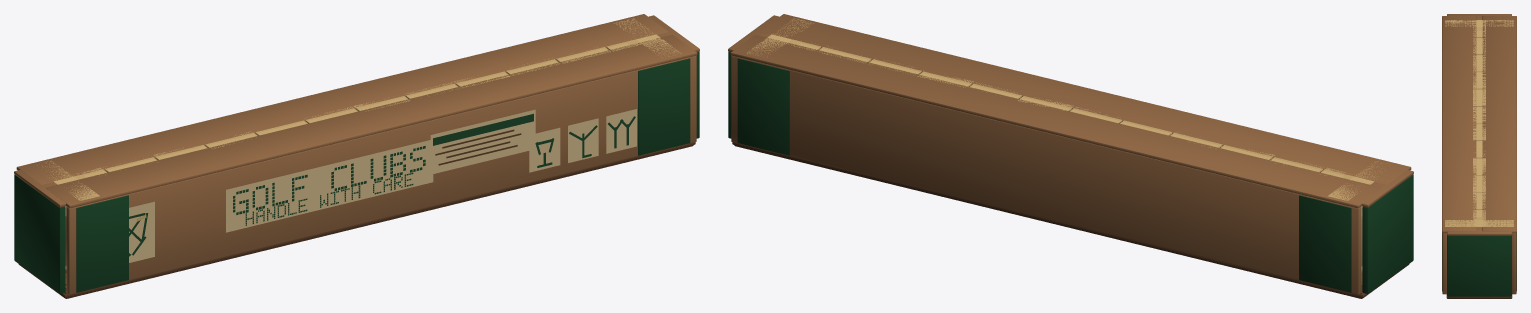
Rendered from delivery_golf_club_box.glb.
3 renders of one model, left to right at view 1: azimuth 30°, elevation 25°; view 2: azimuth 150°, elevation 25°; view 3: azimuth 270°, elevation 25°, orthographic. The views are drawn at different scales.
Visible parts, largest first — view 1: BOX_FRONT, FLAP_TOP_FRONT, FLAP_TOP_BACK, LABEL_MAIN, BAND_FRONT_LEFT, BAND_FRONT_RIGHT, BOX_LEFT, TAPE_CENTER, LABEL_DYNAMIC, FLAT_PANEL_BASE, GOLF_CLUBS_TEXT, CREST_FIELD (+11 smaller); view 2: BOX_BACK, FLAP_TOP_BACK, FLAP_TOP_FRONT, BAND_BACK_LEFT, BAND_BACK_RIGHT, BOX_LEFT, TAPE_CENTER, FLAT_PANEL_BASE, BOX_BASE, TAPE_END_RIGHT, FLAP_TOP_LEFT, TAPE_END_LEFT; view 3: FLAP_TOP_BACK, FLAP_TOP_FRONT, BOX_RIGHT, TAPE_CENTER, TAPE_END_RIGHT, TAPE_END_LEFT, FLAP_TOP_RIGHT, BOX_BACK, BOX_FRONT, FLAT_PANEL_BASE, FLAP_TOP_LEFT, BOX_BASE.
Boxes of the visible parts, <box> form: BOX_FRONT: <box>66,55,696,294</box>; FLAP_TOP_FRONT: <box>45,34,697,208</box>; FLAP_TOP_BACK: <box>16,14,668,184</box>; LABEL_MAIN: <box>226,140,433,232</box>; BAND_FRONT_LEFT: <box>76,195,128,292</box>; BAND_FRONT_RIGHT: <box>638,58,690,155</box>; BOX_LEFT: <box>14,174,65,293</box>; TAPE_CENTER: <box>55,34,660,184</box>; LABEL_DYNAMIC: <box>433,112,533,171</box>; FLAT_PANEL_BASE: <box>18,142,695,298</box>; GOLF_CLUBS_TEXT: <box>233,146,425,214</box>; CREST_FIELD: <box>129,201,154,262</box>; BOX_BACK: <box>731,55,1361,294</box>; FLAP_TOP_BACK: <box>730,34,1382,208</box>; FLAP_TOP_FRONT: <box>759,14,1411,184</box>; BAND_BACK_LEFT: <box>1299,195,1351,292</box>; BAND_BACK_RIGHT: <box>737,58,789,155</box>; BOX_LEFT: <box>1362,174,1413,293</box>; TAPE_CENTER: <box>767,35,1372,183</box>; FLAT_PANEL_BASE: <box>732,142,1409,298</box>; BOX_BASE: <box>734,145,1363,298</box>; TAPE_END_RIGHT: <box>747,18,813,57</box>; FLAP_TOP_LEFT: <box>1362,170,1413,207</box>; TAPE_END_LEFT: <box>1328,161,1382,200</box>; FLAP_TOP_BACK: <box>1482,16,1516,233</box>; FLAP_TOP_FRONT: <box>1442,16,1476,233</box>; BOX_RIGHT: <box>1447,235,1511,296</box>; TAPE_CENTER: <box>1473,20,1485,226</box>; TAPE_END_RIGHT: <box>1445,220,1513,227</box>; TAPE_END_LEFT: <box>1445,20,1513,26</box>; FLAP_TOP_RIGHT: <box>1447,227,1511,235</box>; BOX_BACK: <box>1512,233,1516,294</box>; BOX_FRONT: <box>1442,233,1446,294</box>; FLAT_PANEL_BASE: <box>1446,294,1512,298</box>; FLAP_TOP_LEFT: <box>1447,14,1511,19</box>; BOX_BASE: <box>1447,298,1511,298</box>.
Size of what is drawn, in the model's own units: 1.25 by 0.18 by 0.18.
